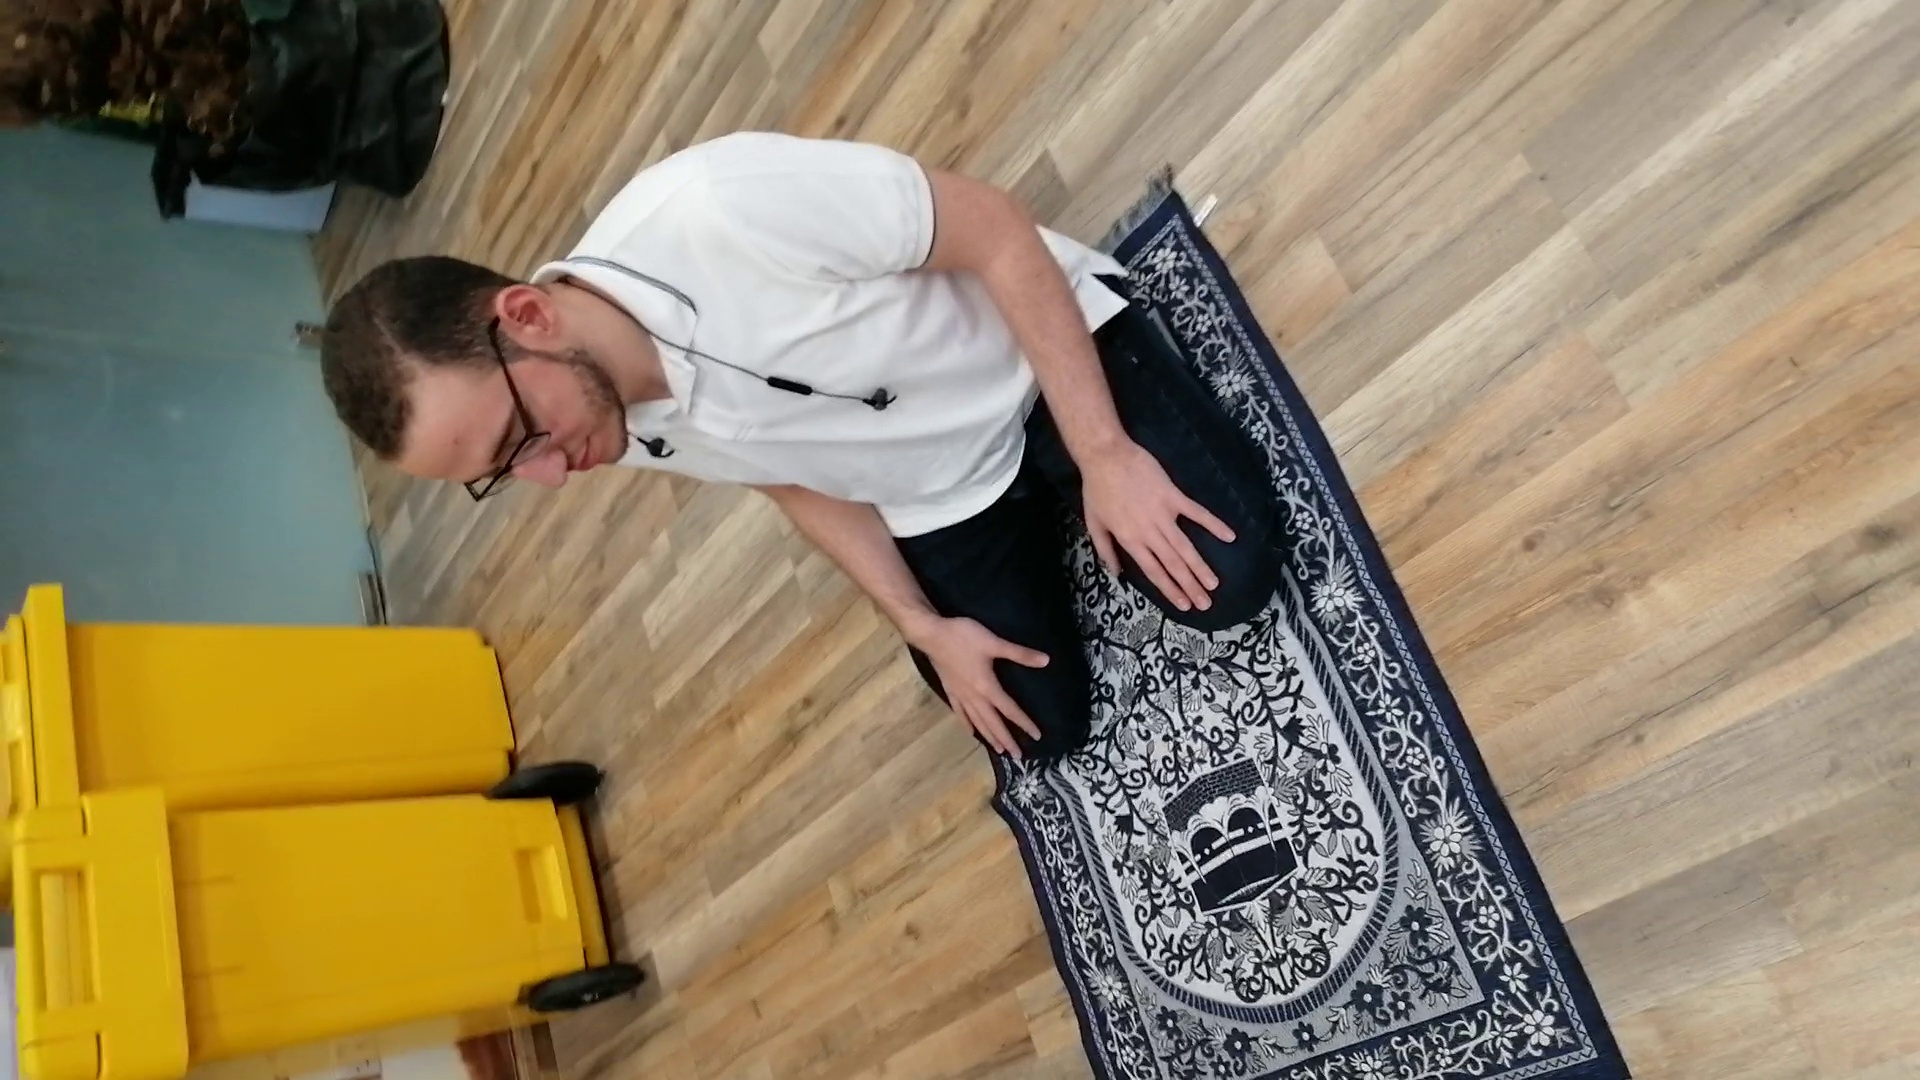sitting: (305, 120, 1294, 767)
